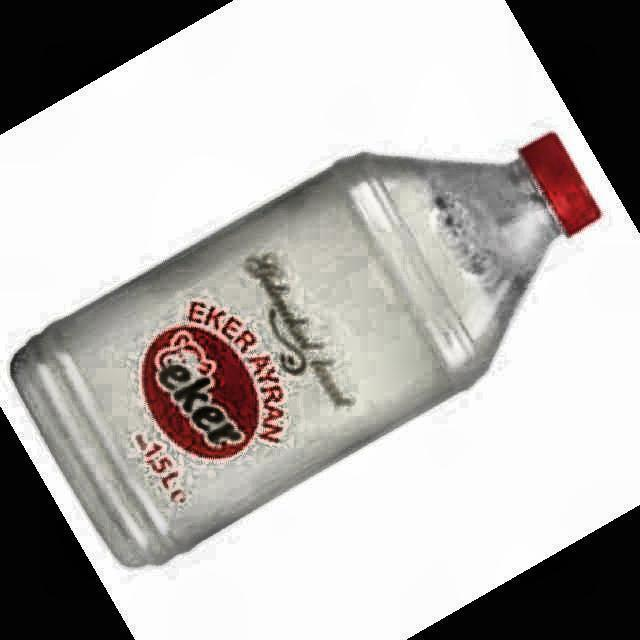plastic: (11, 135, 600, 564)
